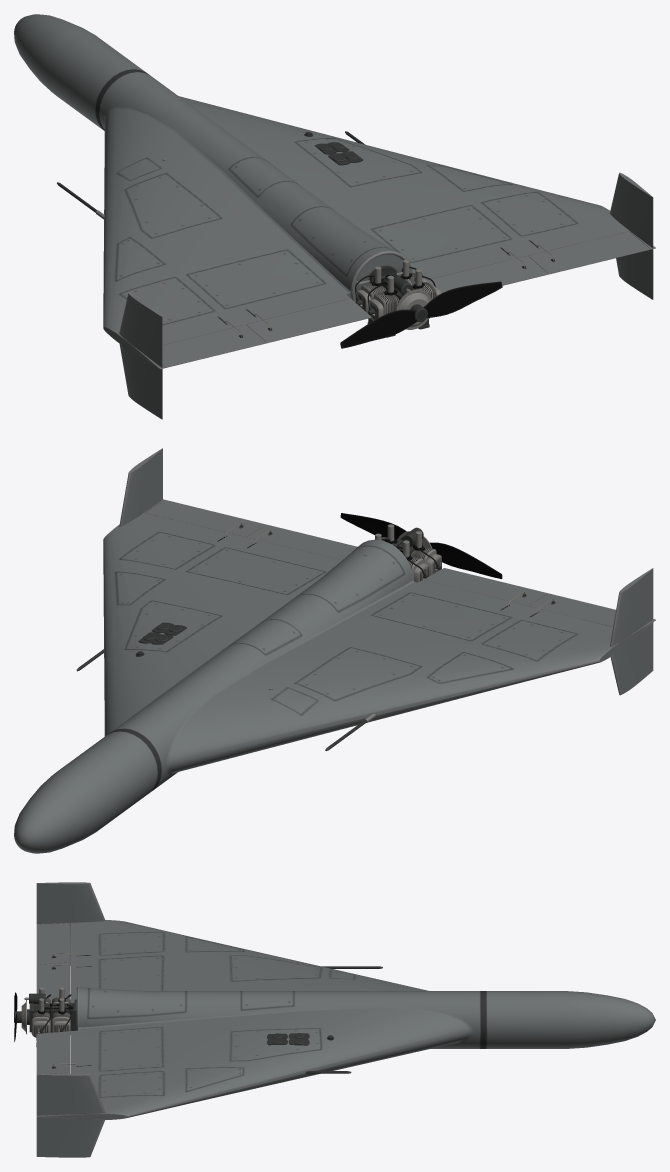
The model's file is Geranium2.obj.
The picture shows the model from 3 angles, top to bottom: view 1: azimuth 30°, elevation 25°; view 2: azimuth 150°, elevation 25°; view 3: azimuth 270°, elevation 25°; orthographic projection. The views are drawn at different scales.
Visible parts, largest first — view 1: Cylinder.001; view 2: Cylinder.001; view 3: Cylinder.001.
Part boxes in pixels (x1,y1,x2,y2): Cylinder.001: [14, 14, 655, 419]; Cylinder.001: [14, 448, 655, 853]; Cylinder.001: [14, 882, 655, 1157].
Size of the model in its own units: 250 by 49.37 by 350.
Materials: 1 (1 with a texture image).
